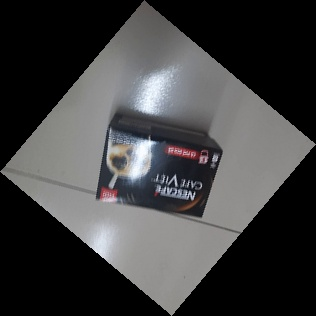CF Viet: (93, 113, 223, 221)
